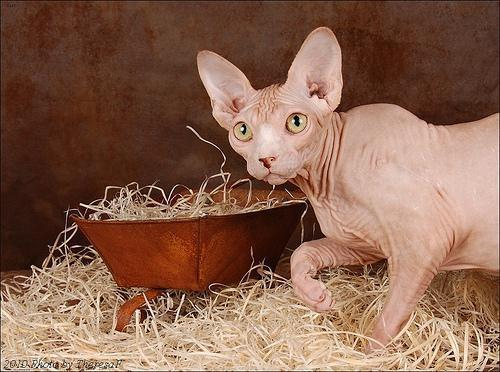cat: (196, 26, 500, 352)
